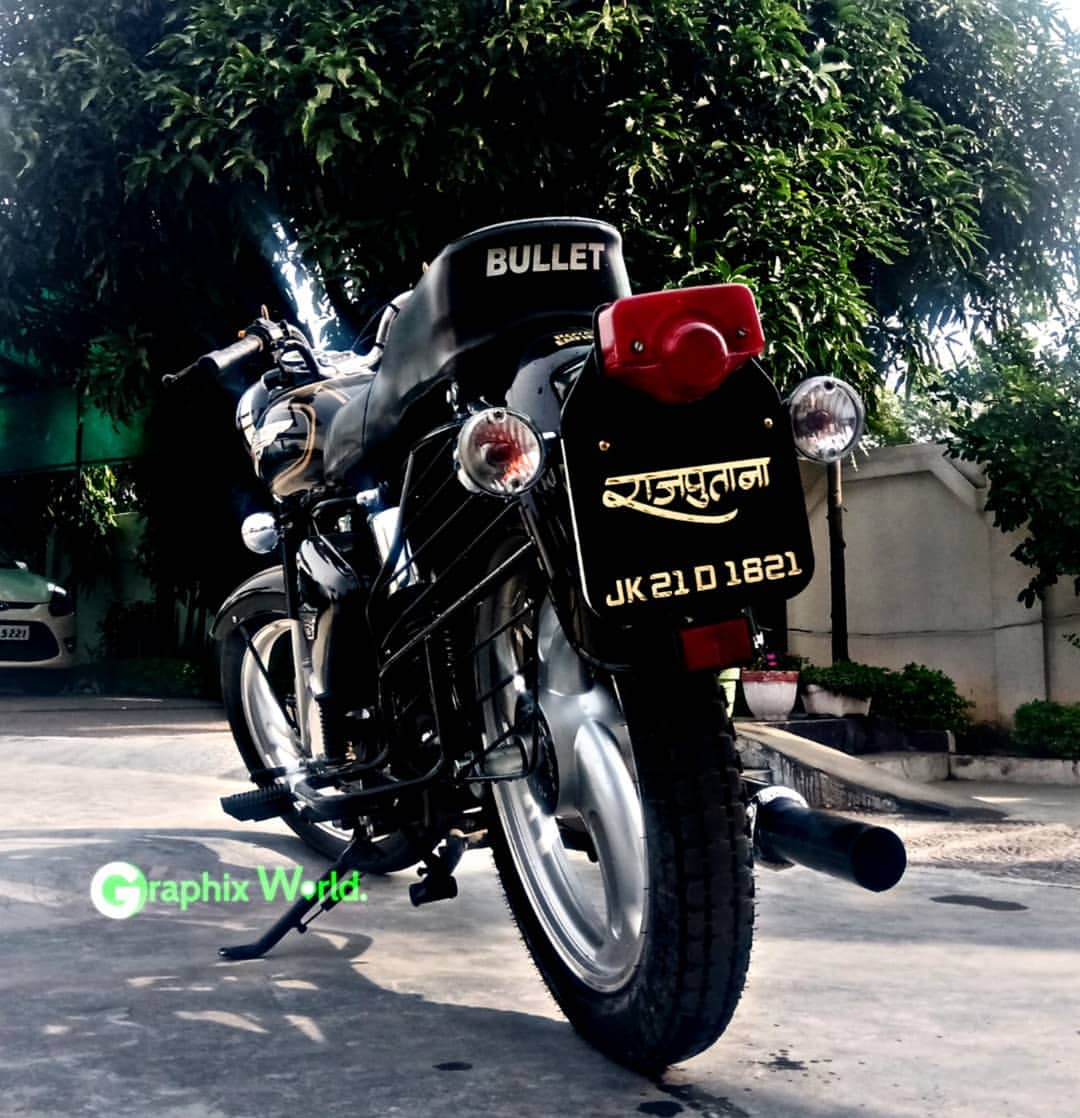number_plate: (552, 408, 838, 619)
